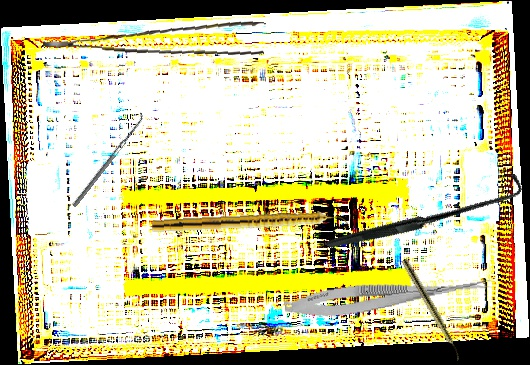Handpiece: (399, 257, 465, 362), (151, 209, 349, 237)
Hook Surgical: (324, 113, 527, 311)
Micro Scissor: (282, 265, 494, 324)
Spatula Surgical: (68, 111, 147, 208)
Tissue Forceps: (42, 3, 267, 66)
